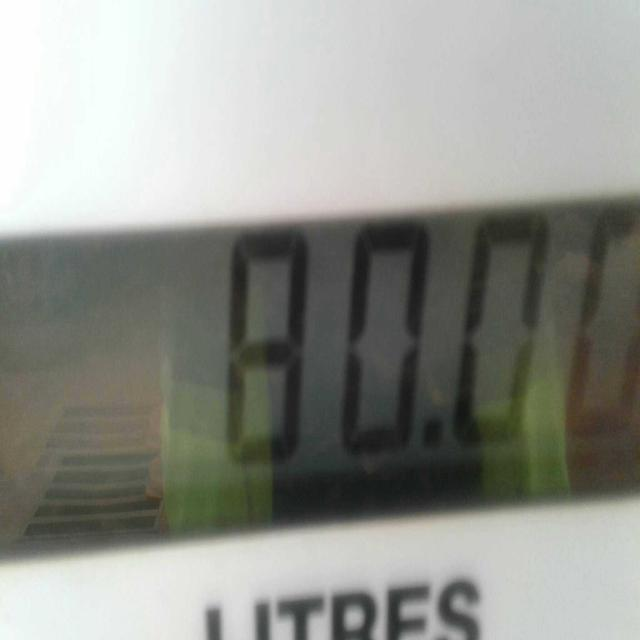.: (418, 404, 458, 480)
0: (446, 198, 548, 456), (338, 224, 424, 451), (566, 212, 640, 454)
8: (221, 227, 308, 472)
